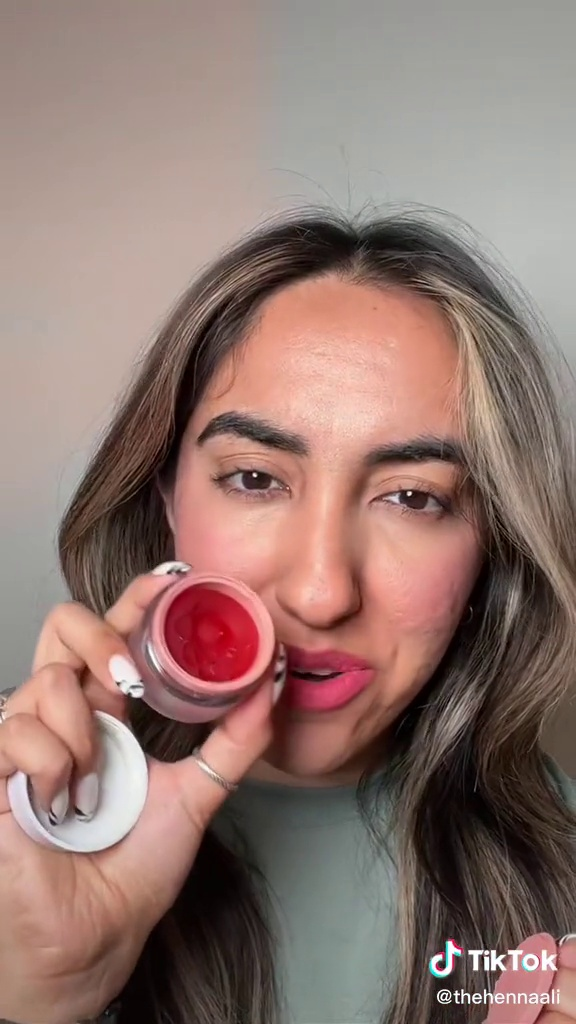train' :'yolo_data/train/images',: (109, 558, 272, 725)
